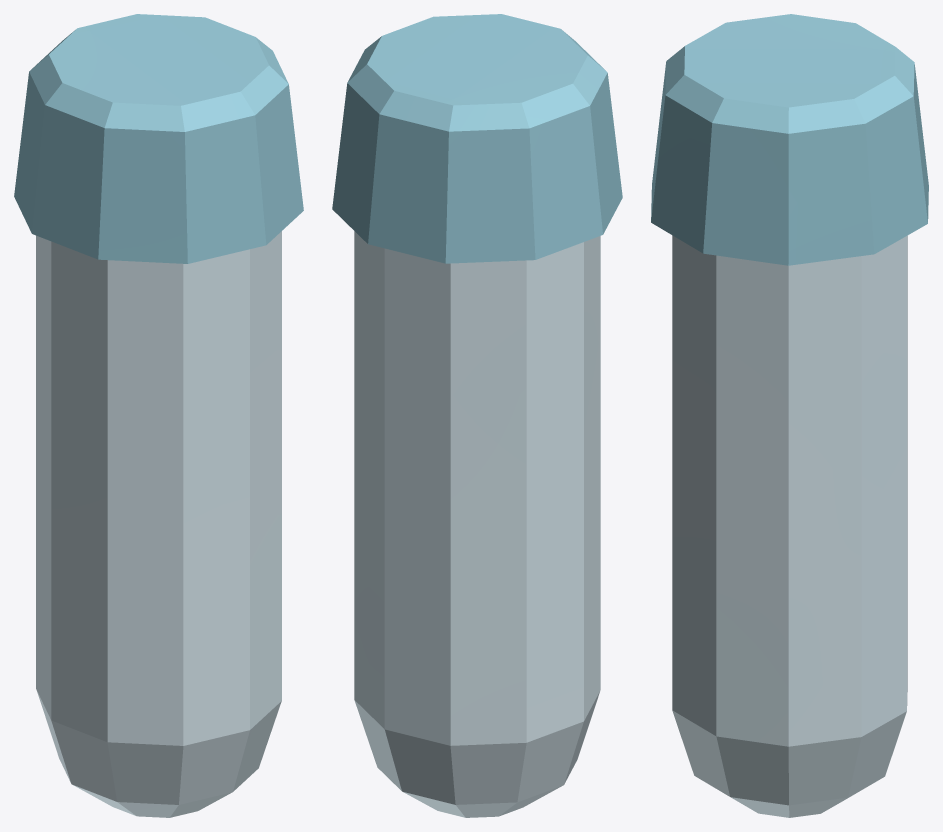
3 views of the same model, side by side, from view 1: azimuth 30°, elevation 25°; view 2: azimuth 150°, elevation 25°; view 3: azimuth 270°, elevation 25° (orthographic).
Visible parts, largest first — view 1: test_tube_4; view 2: test_tube_4; view 3: test_tube_4.
Part boxes in pixels (x1,y1,x2,y2): test_tube_4: (14,14,303,817); test_tube_4: (332,14,622,817); test_tube_4: (651,14,928,817).
Size of the model in its own units: 0.0299 by 0.0831 by 0.0285.
